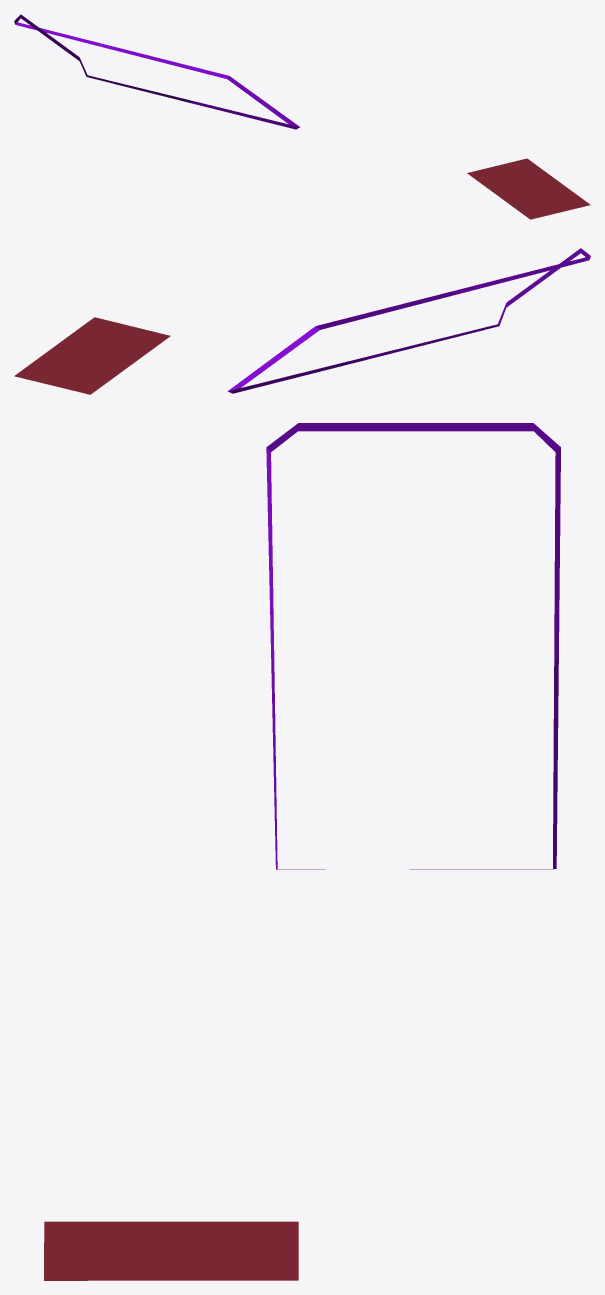
File: Hotel-Roof-MeshFix-1.fbx
3 renders of one model, top to bottom at view 1: azimuth 30°, elevation 25°; view 2: azimuth 150°, elevation 25°; view 3: azimuth 270°, elevation 25°, orthographic. The views are drawn at different scales.
Visible parts, largest first — view 1: Cube.1558, Cube.1228; view 2: Cube.1558, Cube.1228; view 3: Cube.1558, Cube.1228.
Boxes of the visible parts, x1=… form: Cube.1558: x1=467, y1=158, x2=590, y2=219; Cube.1228: x1=14, y1=14, x2=299, y2=129; Cube.1558: x1=14, y1=317, x2=170, y2=394; Cube.1228: x1=227, y1=248, x2=590, y2=393; Cube.1558: x1=44, y1=1221, x2=298, y2=1280; Cube.1228: x1=266, y1=423, x2=560, y2=869.
Bounding box in the file's own units: 1460 × 655 × 730.
